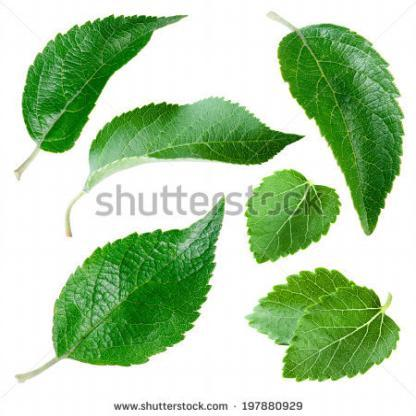Apple leaf: (51, 191, 231, 383), (265, 19, 415, 239), (16, 2, 144, 164), (240, 178, 343, 261)
